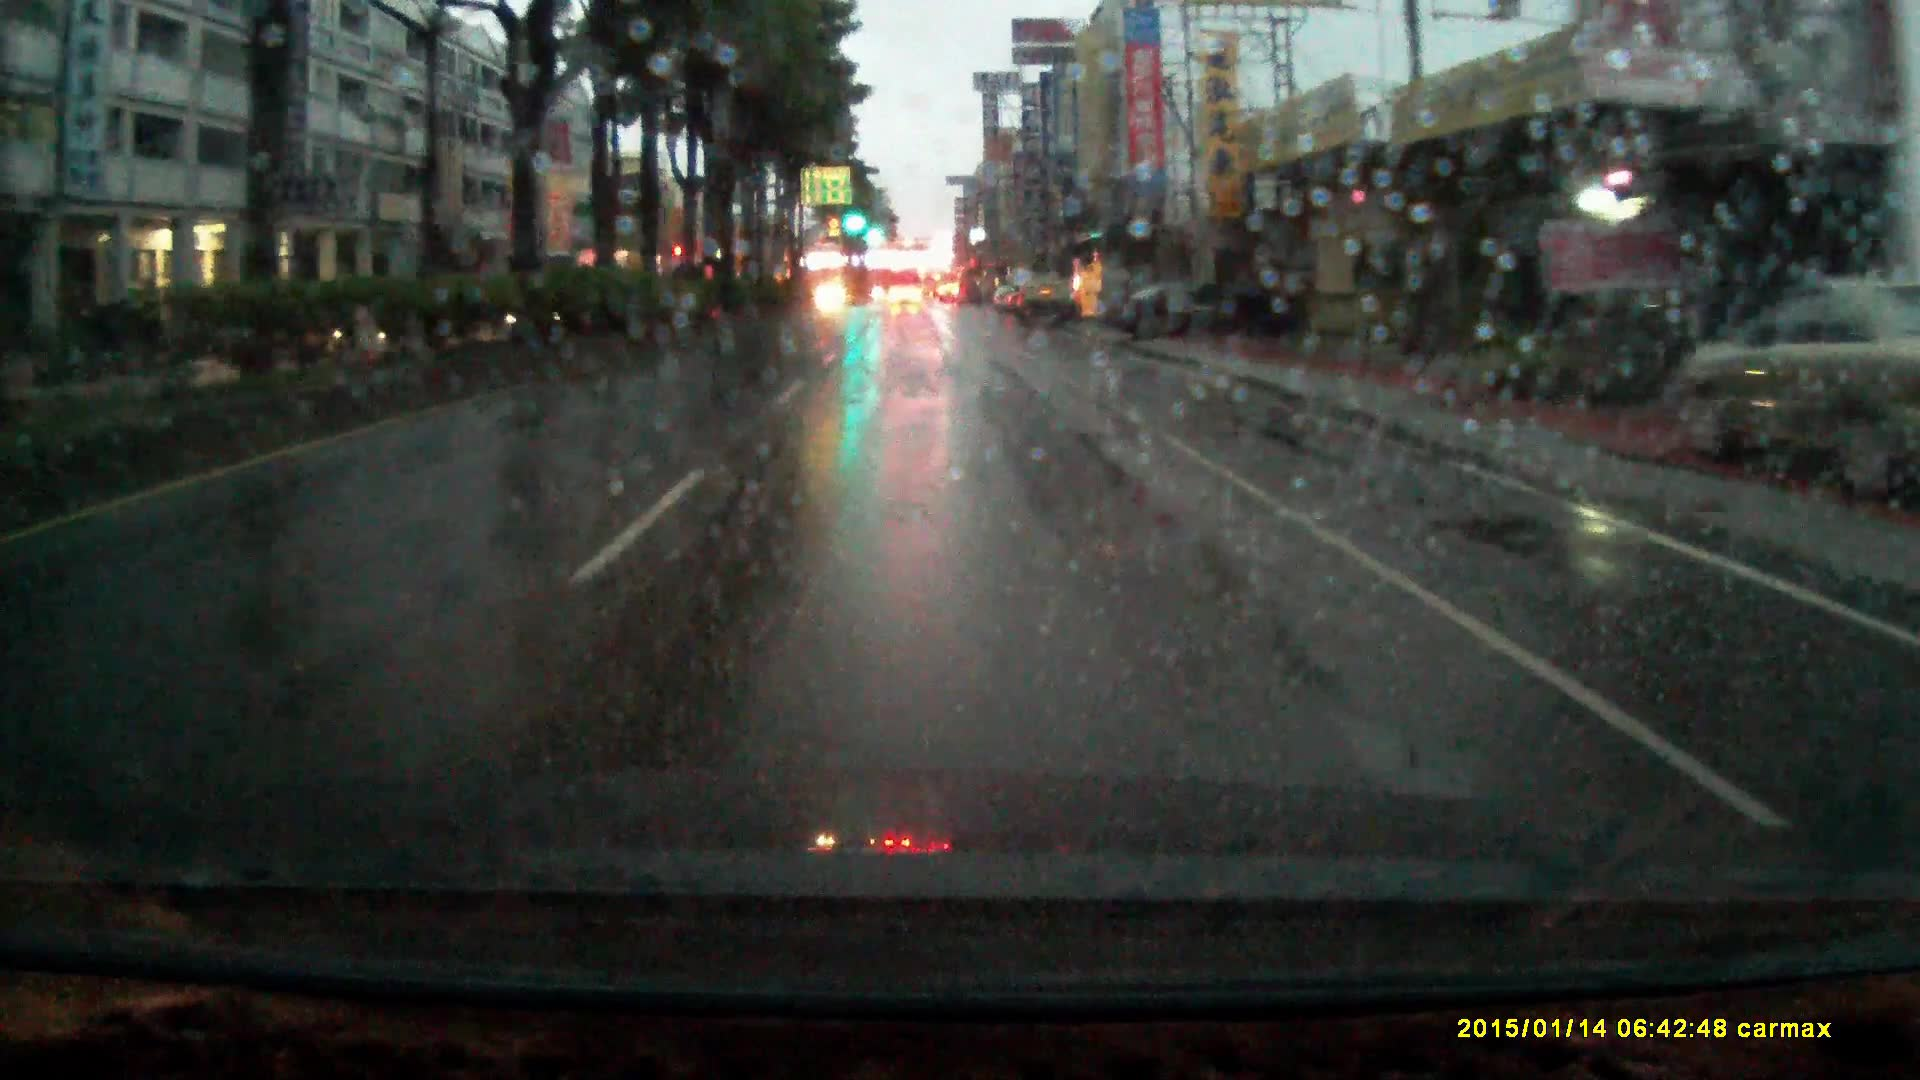vehicle: (1673, 274, 1920, 506), (1102, 280, 1302, 342), (1014, 272, 1073, 324), (886, 284, 924, 307)
